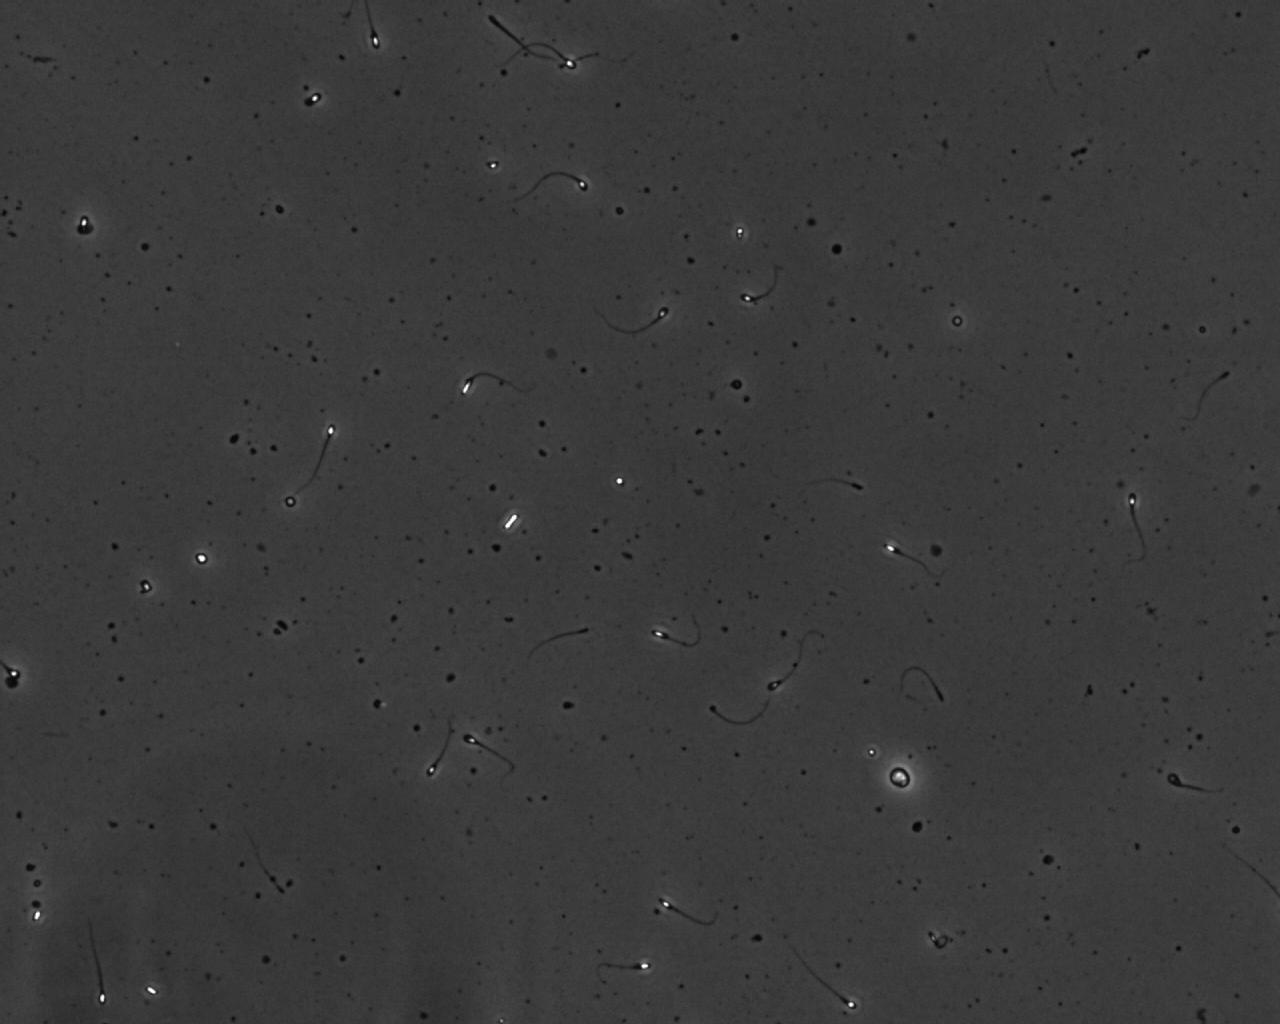cell: (886, 763, 914, 792)
